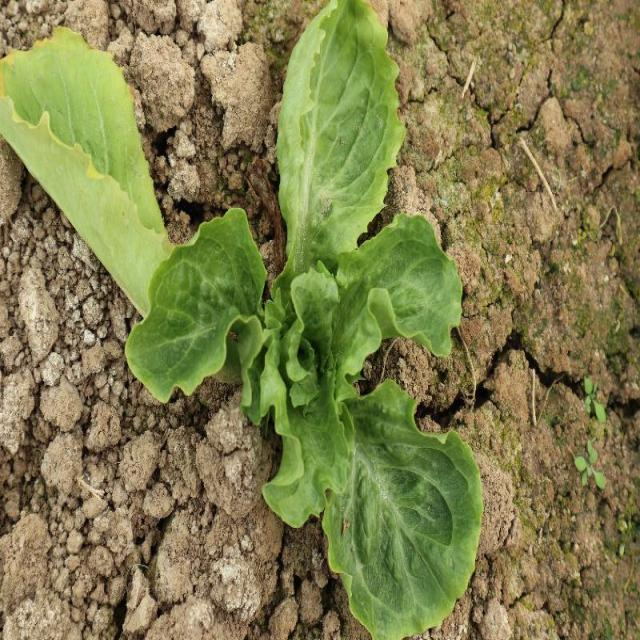crop: (3, 0, 485, 640)
